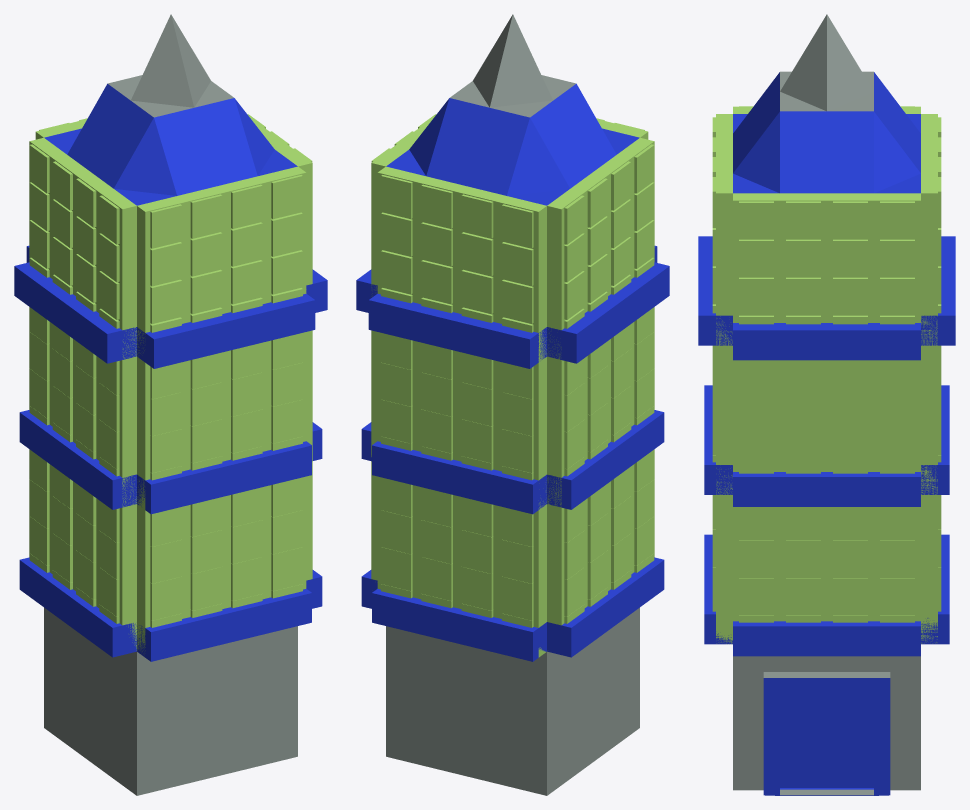
File: edificio2.fbx
The picture shows the model from 3 angles, left to right: view 1: azimuth 30°, elevation 25°; view 2: azimuth 150°, elevation 25°; view 3: azimuth 270°, elevation 25°; orthographic projection.
Parts seen in each view (by area): view 1: Cubo.001; view 2: Cubo.001; view 3: Cubo.001.
Boxes of the visible parts, x1,y1,x2,y2 form: Cubo.001: (14, 14, 327, 795); Cubo.001: (356, 14, 669, 795); Cubo.001: (698, 14, 955, 795).
Bounding box in the file's own units: 137 × 432 × 137.
